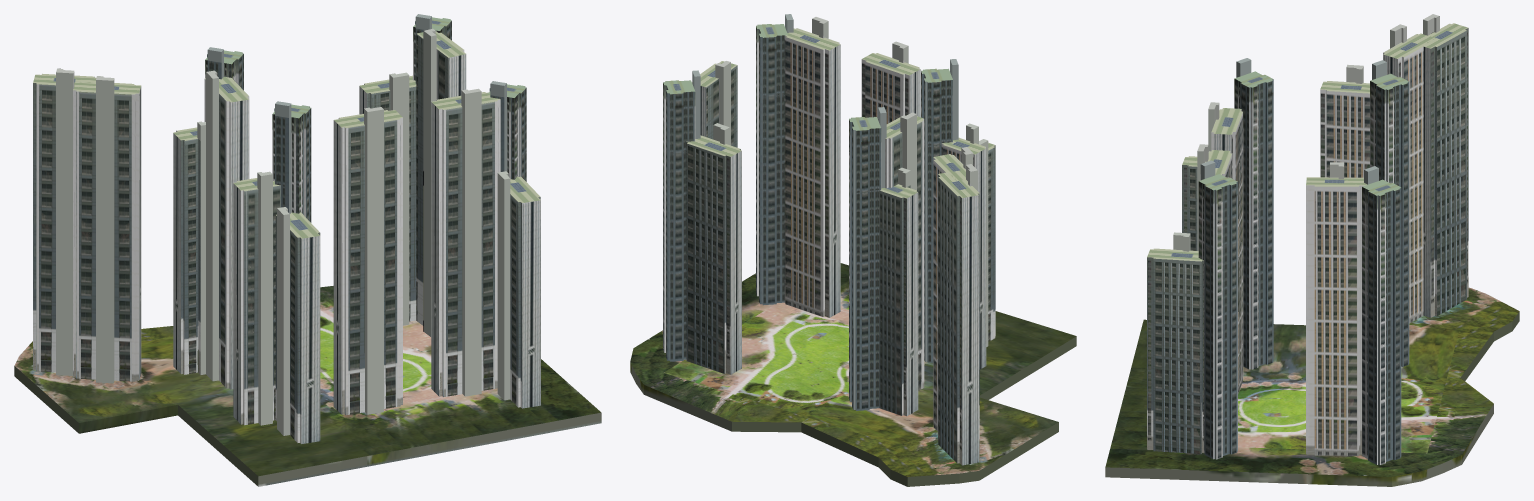
The model's file is ICJ00100_B.glb.
The picture shows the model from 3 angles, left to right: view 1: azimuth 30°, elevation 25°; view 2: azimuth 150°, elevation 25°; view 3: azimuth 270°, elevation 25°; orthographic projection. The views are drawn at different scales.
Visible parts, largest first — view 1: MainBuilding; view 2: MainBuilding; view 3: MainBuilding.
Part boxes in pixels (x1,y1,x2,y2): MainBuilding: (14,14,601,486); MainBuilding: (630,14,1076,486); MainBuilding: (1105,14,1519,486).
Size of the model in its own units: 47.03 by 34.47 by 42.46.
1 material, 1 textured.
